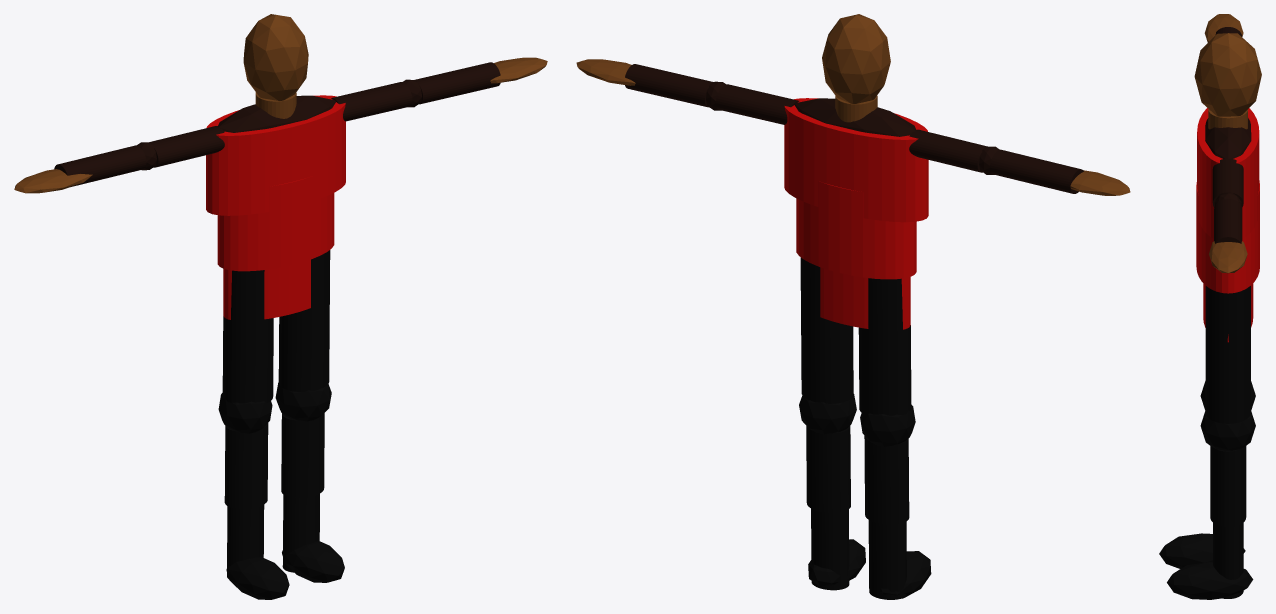
Rendered from character.obj.
3 renders of one model, left to right at view 1: azimuth 30°, elevation 25°; view 2: azimuth 150°, elevation 25°; view 3: azimuth 270°, elevation 25°, orthographic. The views are drawn at different scales.
Parts seen in each view (by area): view 1: Cylinder.010_Cylinder.004, Cylinder.004, Cylinder.001_Cylinder.002, Cylinder.003_Cylinder.002, Icosphere, Cylinder.002, Cylinder.008_Cylinder.002, Cylinder.011_Cylinder.004, Cylinder.013_Cylinder.007, Icosphere.001, Icosphere.008_Icosphere.005, Cylinder.005_Cylinder.002 (+10 smaller); view 2: Cylinder.010_Cylinder.004, Cylinder.004, Cylinder.001_Cylinder.002, Cylinder.003_Cylinder.002, Icosphere, Cylinder.002, Cylinder.008_Cylinder.002, Cylinder.011_Cylinder.004, Cylinder.009_Cylinder.002, Cylinder.005_Cylinder.002, Cylinder.007, Cylinder.013_Cylinder.007 (+10 smaller); view 3: Cylinder.003_Cylinder.002, Icosphere, Cylinder.010_Cylinder.004, Cylinder.002, Cylinder.004, Icosphere.009_Icosphere.005, Cylinder.005_Cylinder.002, Icosphere.008_Icosphere.005, Icosphere.007_Icosphere.004, Icosphere.001, Cylinder.013_Cylinder.007, Cylinder.012_Cylinder.006 (+6 smaller).
Boxes of the visible parts, box(x1,y1,x2,y2) form: Cylinder.010_Cylinder.004: box(206, 95, 345, 215); Cylinder.004: box(217, 176, 334, 271); Cylinder.001_Cylinder.002: box(222, 270, 273, 403); Cylinder.003_Cylinder.002: box(278, 250, 330, 391); Icosphere: box(243, 14, 308, 100); Cylinder.002: box(281, 413, 324, 497); Cylinder.008_Cylinder.002: box(224, 423, 268, 509); Cylinder.011_Cylinder.004: box(223, 259, 310, 319); Cylinder.013_Cylinder.007: box(415, 62, 500, 104); Icosphere.001: box(218, 95, 335, 132); Icosphere.008_Icosphere.005: box(226, 557, 289, 599); Cylinder.005_Cylinder.002: box(282, 493, 319, 572); Cylinder.010_Cylinder.004: box(784, 98, 928, 222); Cylinder.004: box(796, 181, 916, 279); Cylinder.001_Cylinder.002: box(858, 278, 911, 415); Cylinder.003_Cylinder.002: box(800, 257, 853, 403); Icosphere: box(822, 14, 890, 103); Cylinder.002: box(806, 426, 850, 512); Cylinder.008_Cylinder.002: box(864, 436, 909, 524); Cylinder.011_Cylinder.004: box(820, 267, 910, 329); Cylinder.009_Cylinder.002: box(868, 520, 906, 599); Cylinder.005_Cylinder.002: box(811, 508, 849, 590); Cylinder.007: box(990, 149, 1083, 193); Cylinder.013_Cylinder.007: box(625, 64, 713, 107); Cylinder.003_Cylinder.002: box(1205, 286, 1250, 423); Icosphere: box(1194, 33, 1261, 116); Cylinder.010_Cylinder.004: box(1197, 108, 1259, 238); Cylinder.002: box(1210, 446, 1246, 526); Cylinder.004: box(1196, 180, 1259, 293); Icosphere.009_Icosphere.005: box(1167, 562, 1253, 599); Cylinder.005_Cylinder.002: box(1213, 522, 1243, 598); Icosphere.008_Icosphere.005: box(1159, 533, 1245, 568); Icosphere.007_Icosphere.004: box(1200, 410, 1255, 450); Icosphere.001: box(1205, 118, 1251, 158); Cylinder.013_Cylinder.007: box(1214, 199, 1242, 243); Cylinder.012_Cylinder.006: box(1212, 158, 1243, 207).
Bounding box in the file's own units: 4.54 × 4.55 × 0.7715.
